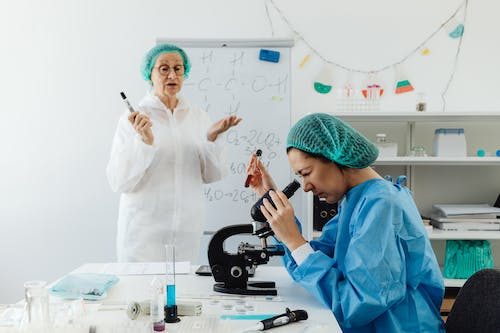blood: (243, 157, 259, 188)
